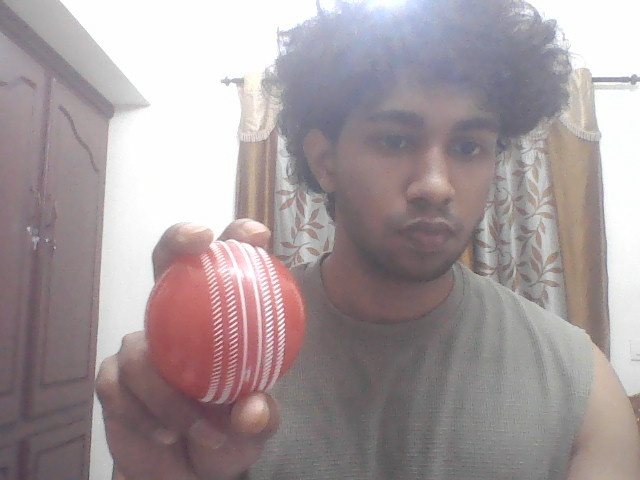cricket_ball: (139, 231, 319, 407)
